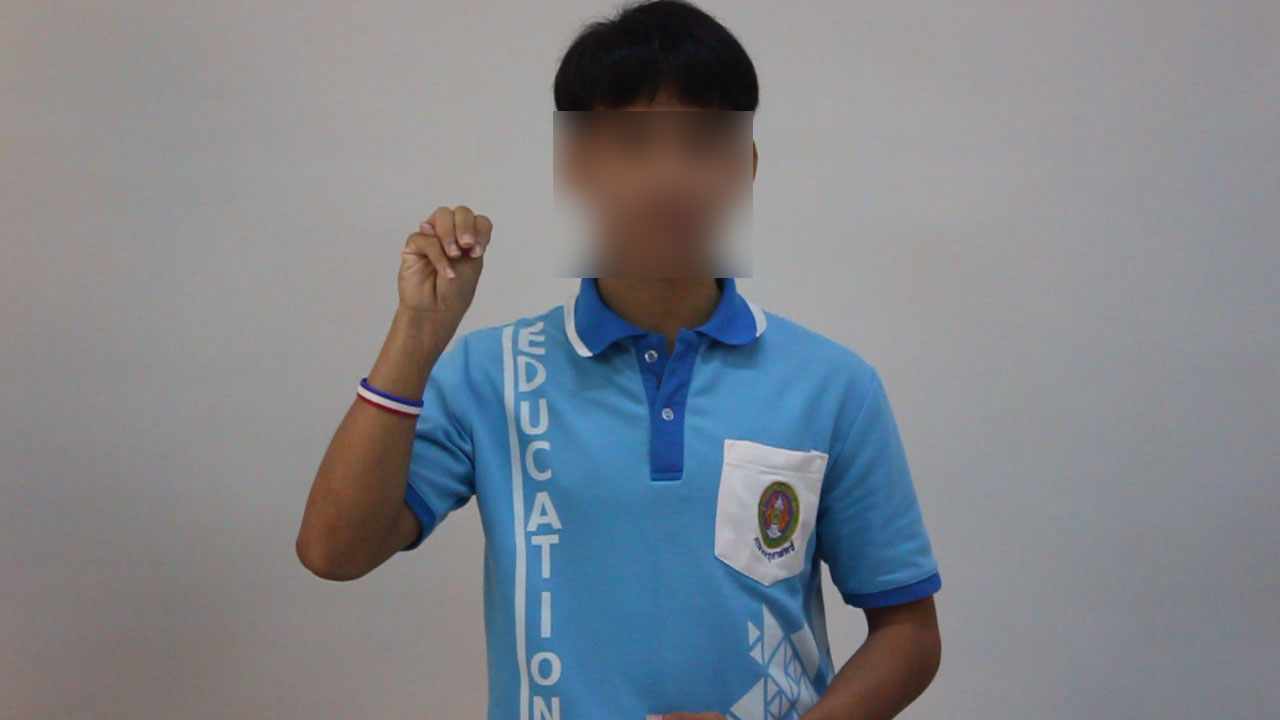mor: (394, 182, 498, 333)
